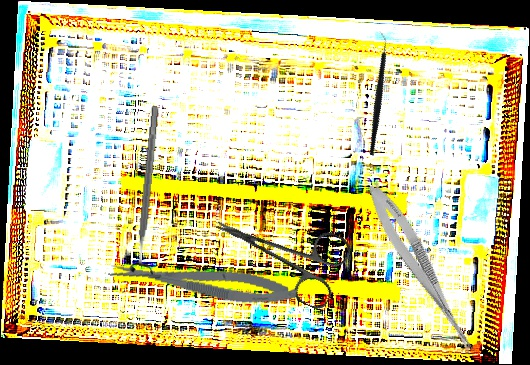Chopper: (327, 30, 426, 157)
Fixation Ring: (127, 105, 169, 275)
Iris Scissors: (202, 187, 355, 313)
Micro Scissor: (359, 178, 487, 360), (106, 250, 299, 312)
